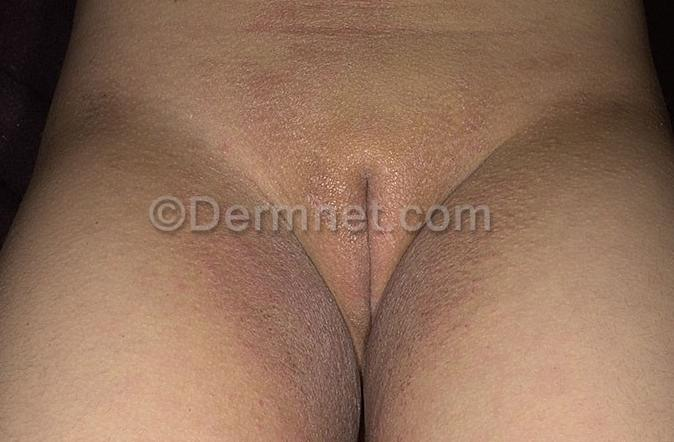edema 1: (160, 51, 499, 442)
liquenificacion 1: (181, 130, 485, 442)
xerosis 3: (157, 0, 501, 442)
